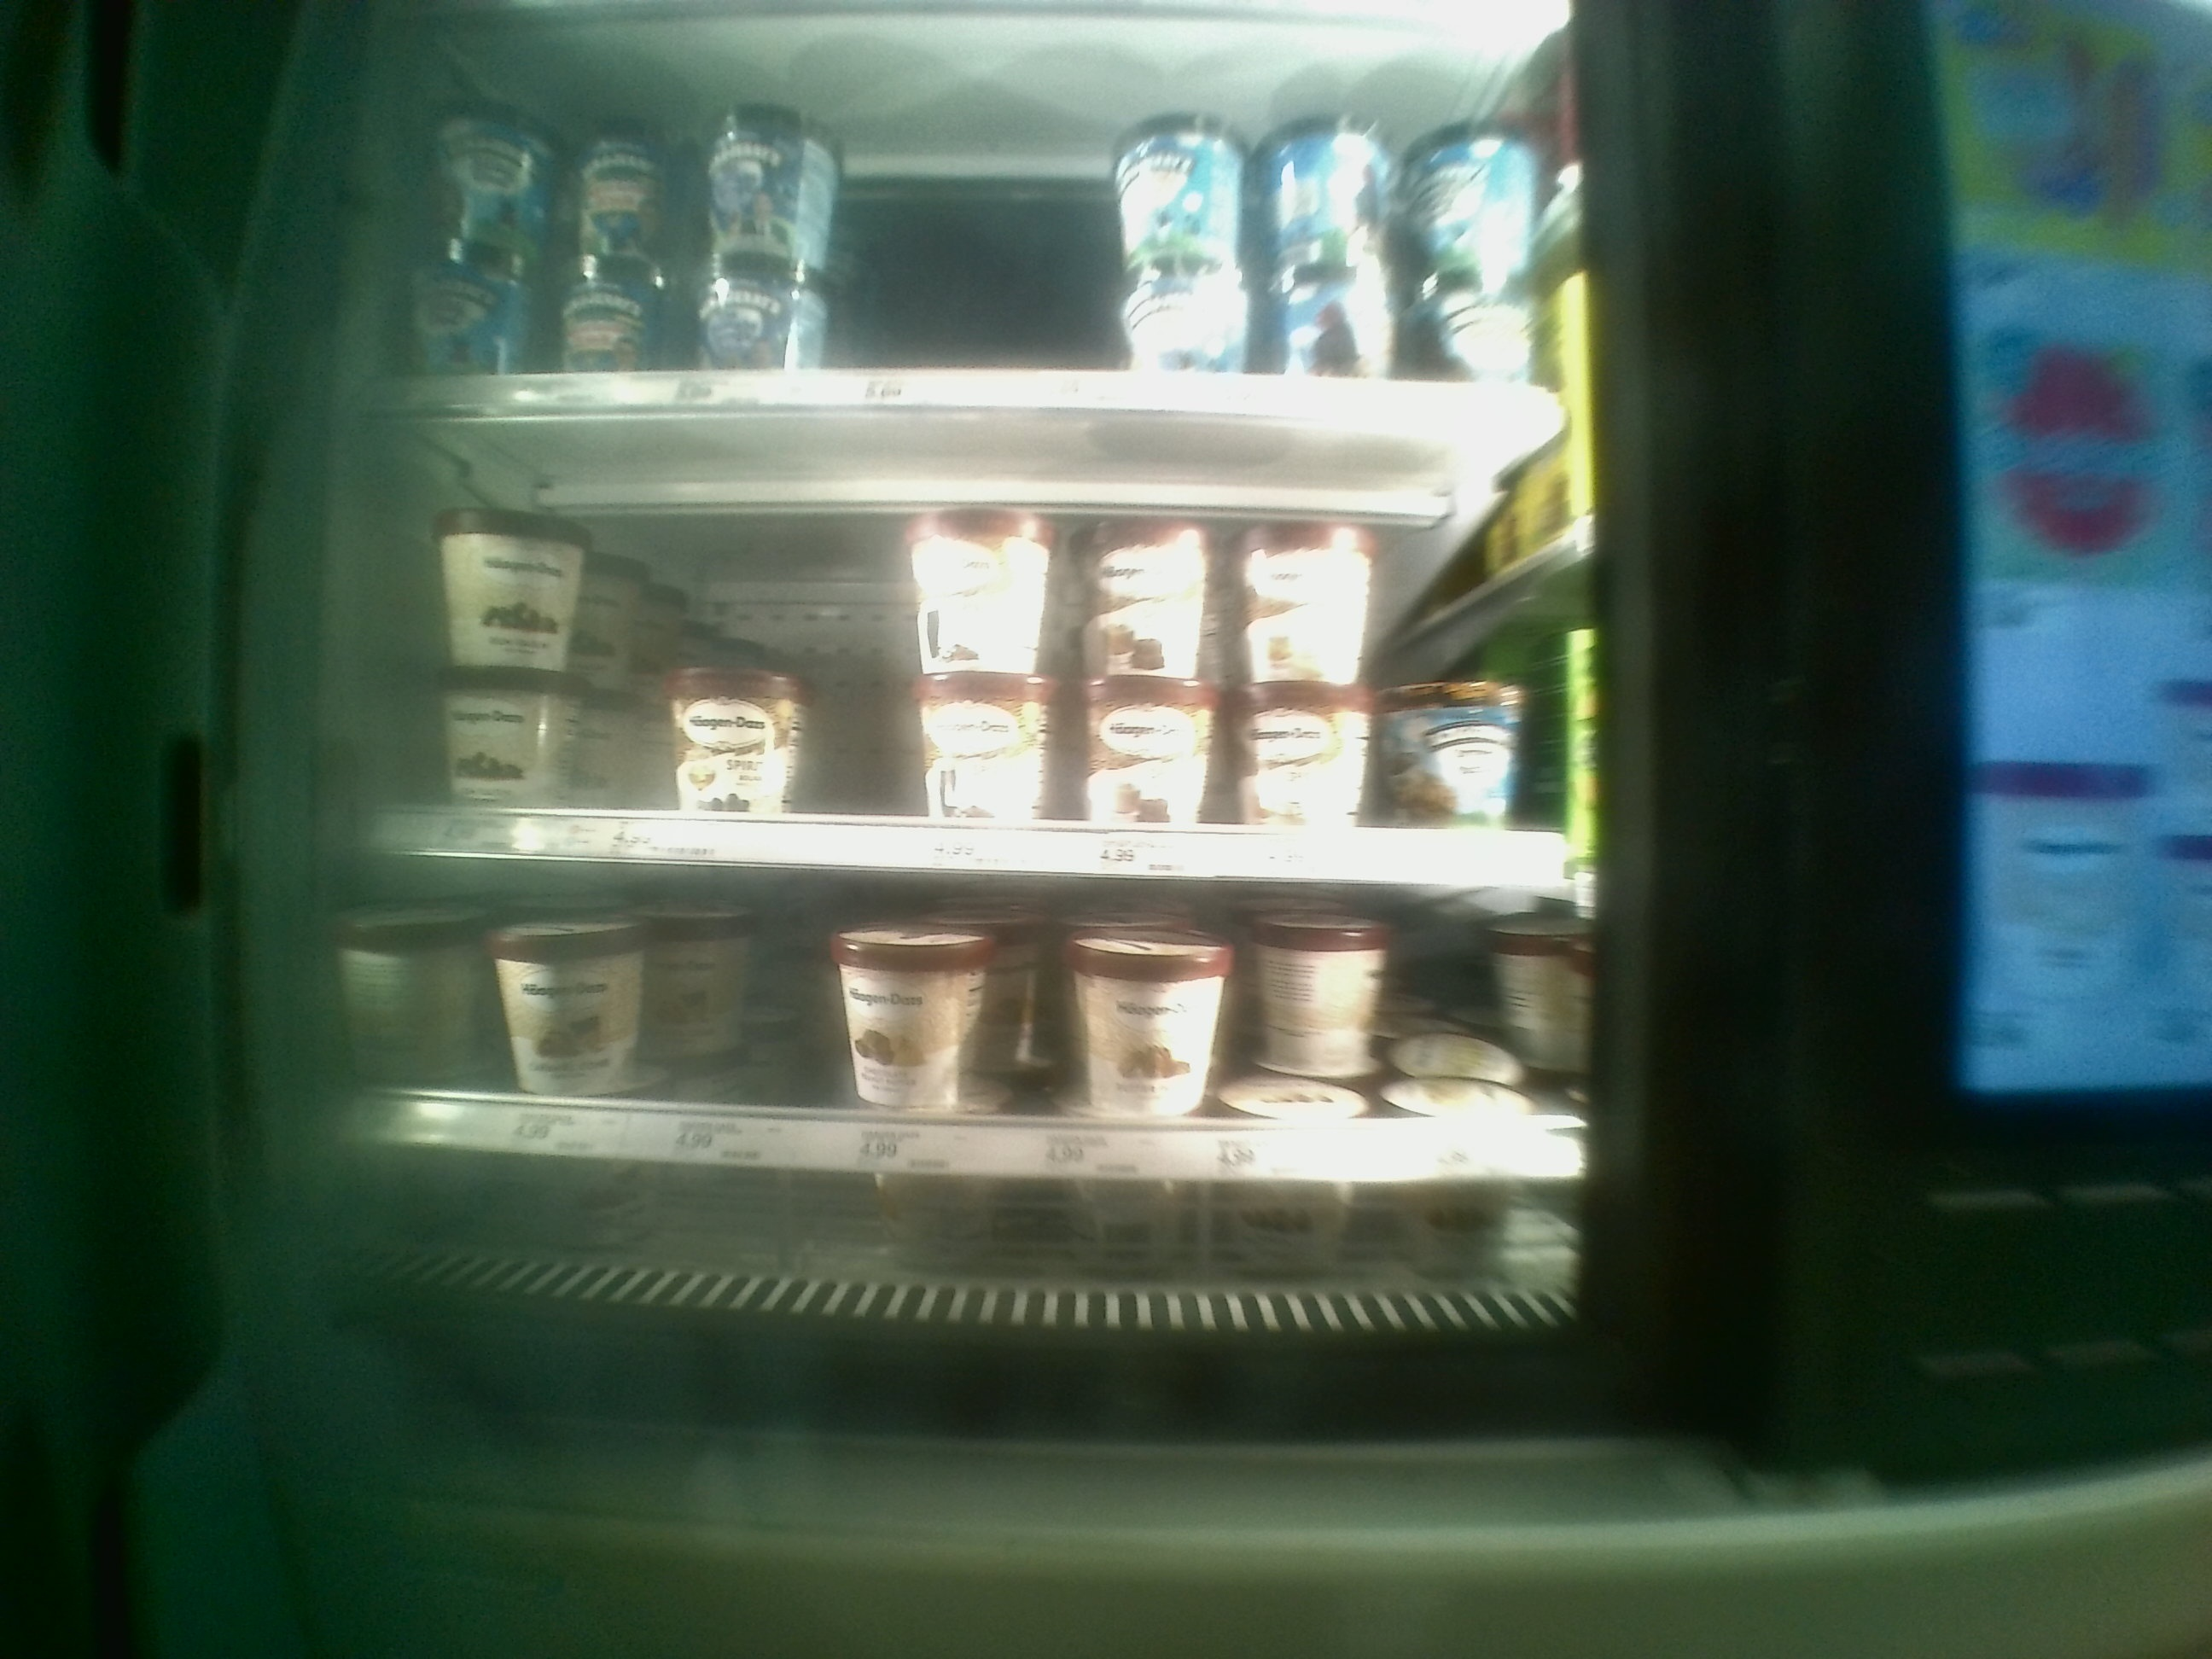ice-cream-shelf: (347, 415, 1599, 882), (354, 852, 1588, 1213)
